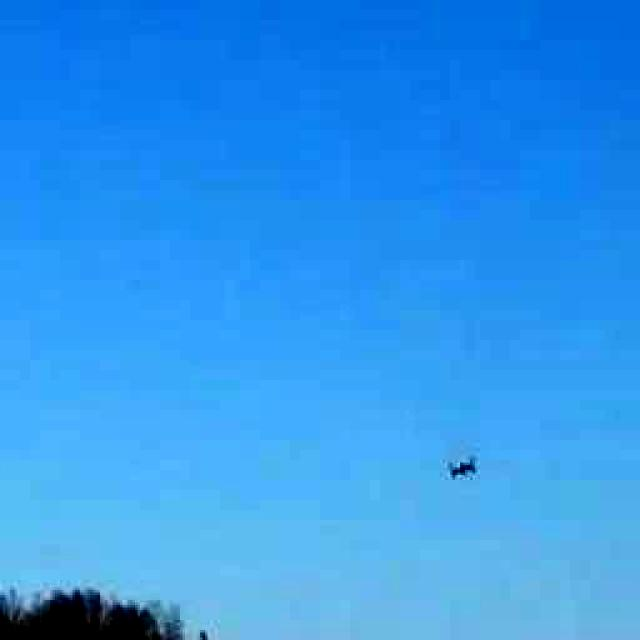bird: (425, 432, 498, 500)
